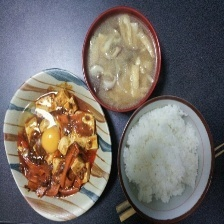rice: (123, 104, 203, 204)
